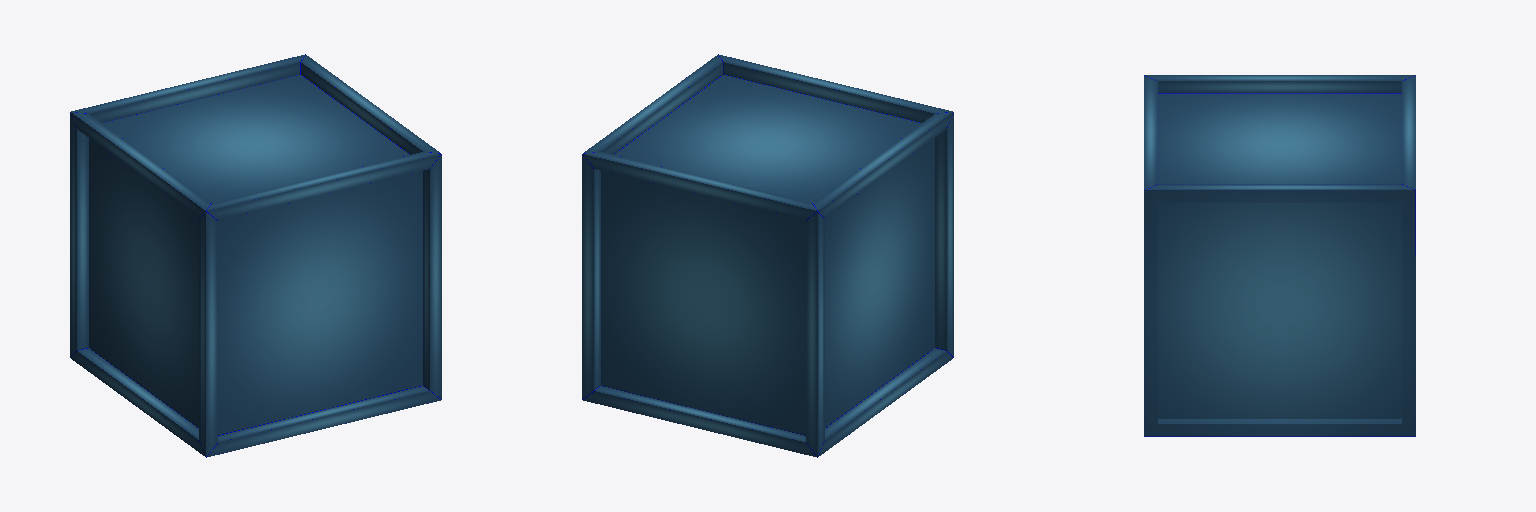
3 renders of one model, left to right at view 1: azimuth 30°, elevation 25°; view 2: azimuth 150°, elevation 25°; view 3: azimuth 270°, elevation 25°, orthographic.
Visible parts, largest first — view 1: Cube; view 2: Cube; view 3: Cube.
Part boxes in pixels (bbox=[...]): Cube: bbox=[70, 54, 441, 457]; Cube: bbox=[582, 54, 953, 457]; Cube: bbox=[1144, 75, 1415, 436].
Bounding box in the file's own units: 2 × 2 × 2.
2 materials, 1 textured.